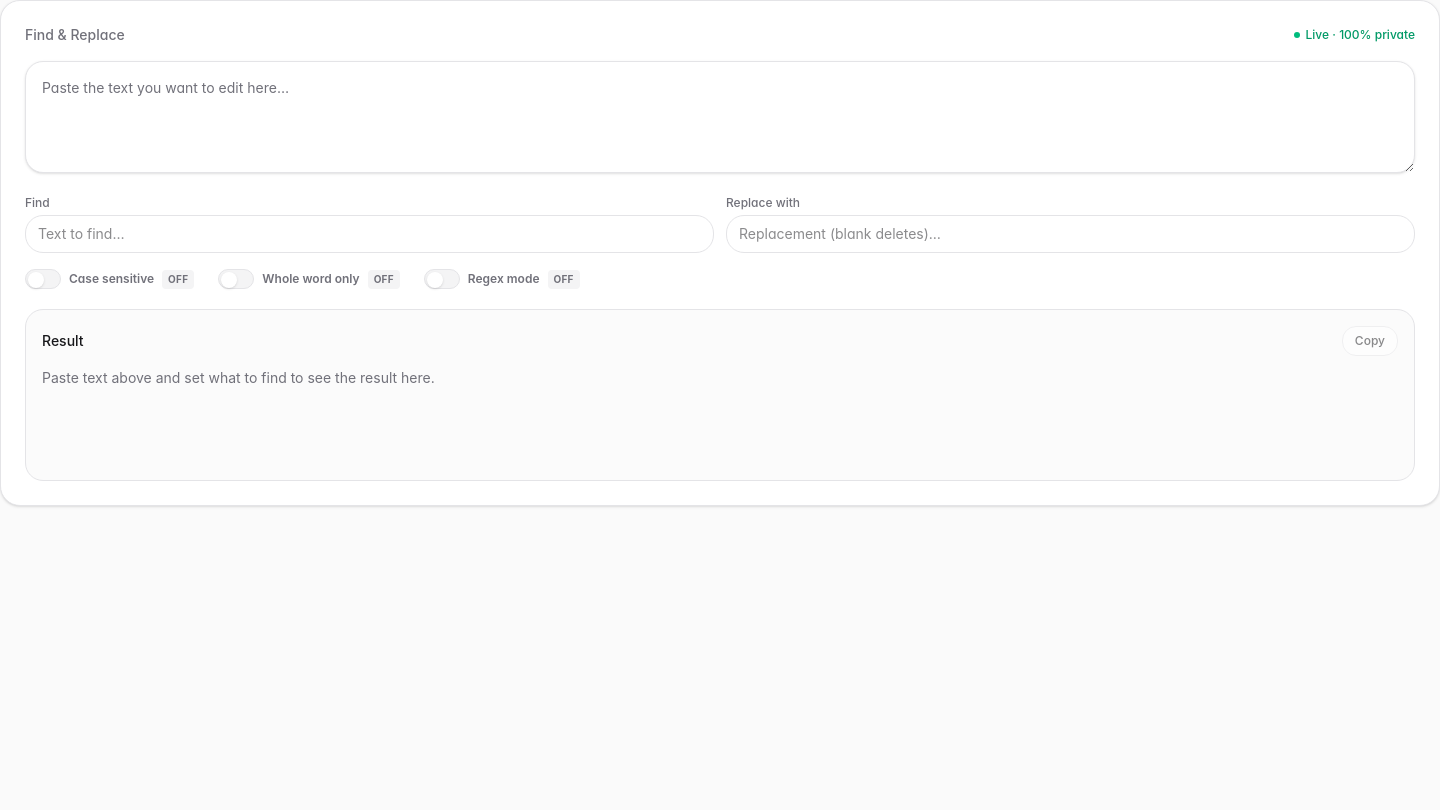
Test: Find & Replace UI toggles › case-sensitive toggle changes output and only matches exact case
Type "Fox fox FOX" into the text box named "Text to edit".
click(720, 117); type("Fox fox FOX")  # box [25, 61, 1415, 173]
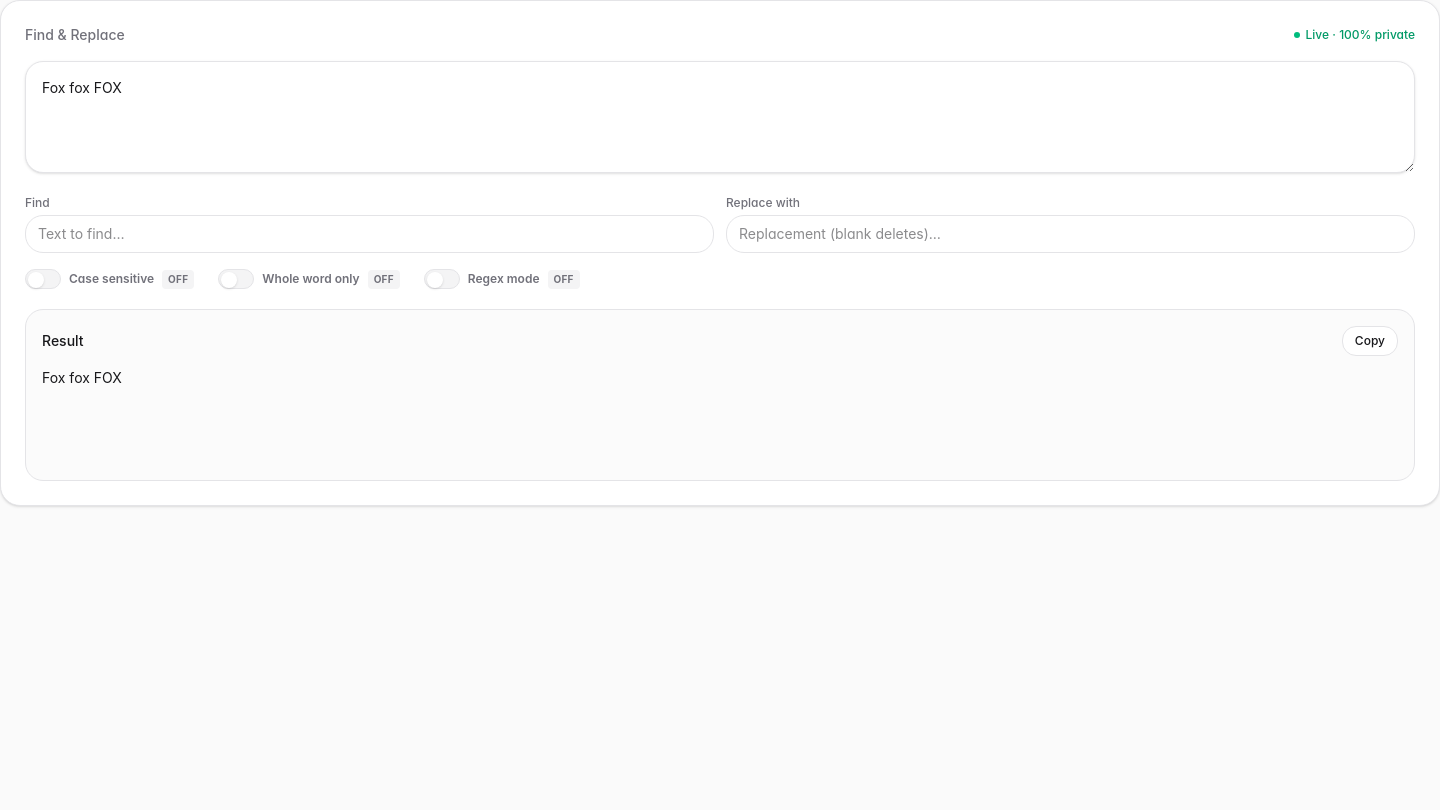
Type "fox" into the field with placeholder "Text to find…".
click(370, 234); type("fox")  # box [25, 215, 714, 253]
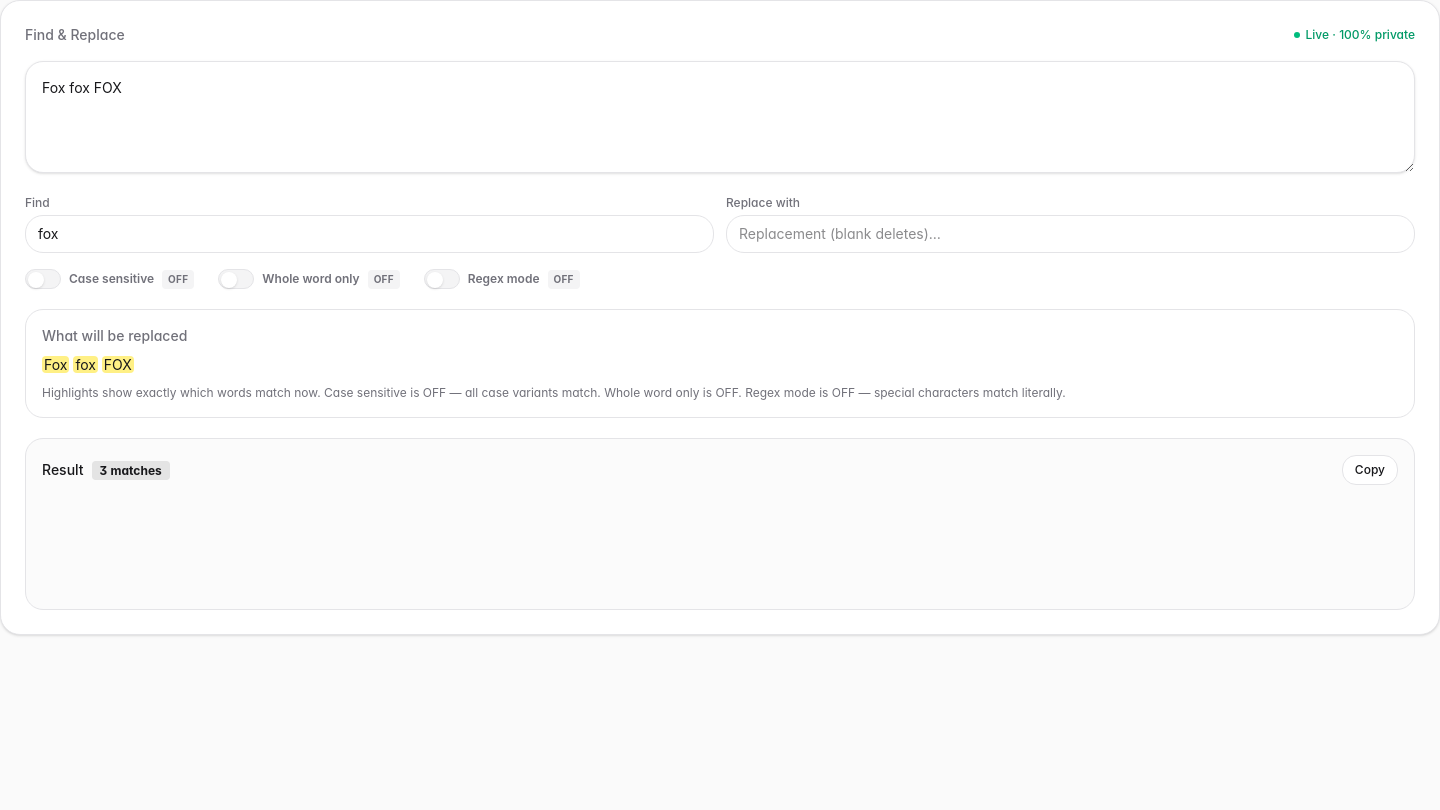
Type "cat" into the field with placeholder "Replacement (blank deletes)…".
click(1070, 234); type("cat")  # box [726, 215, 1415, 253]
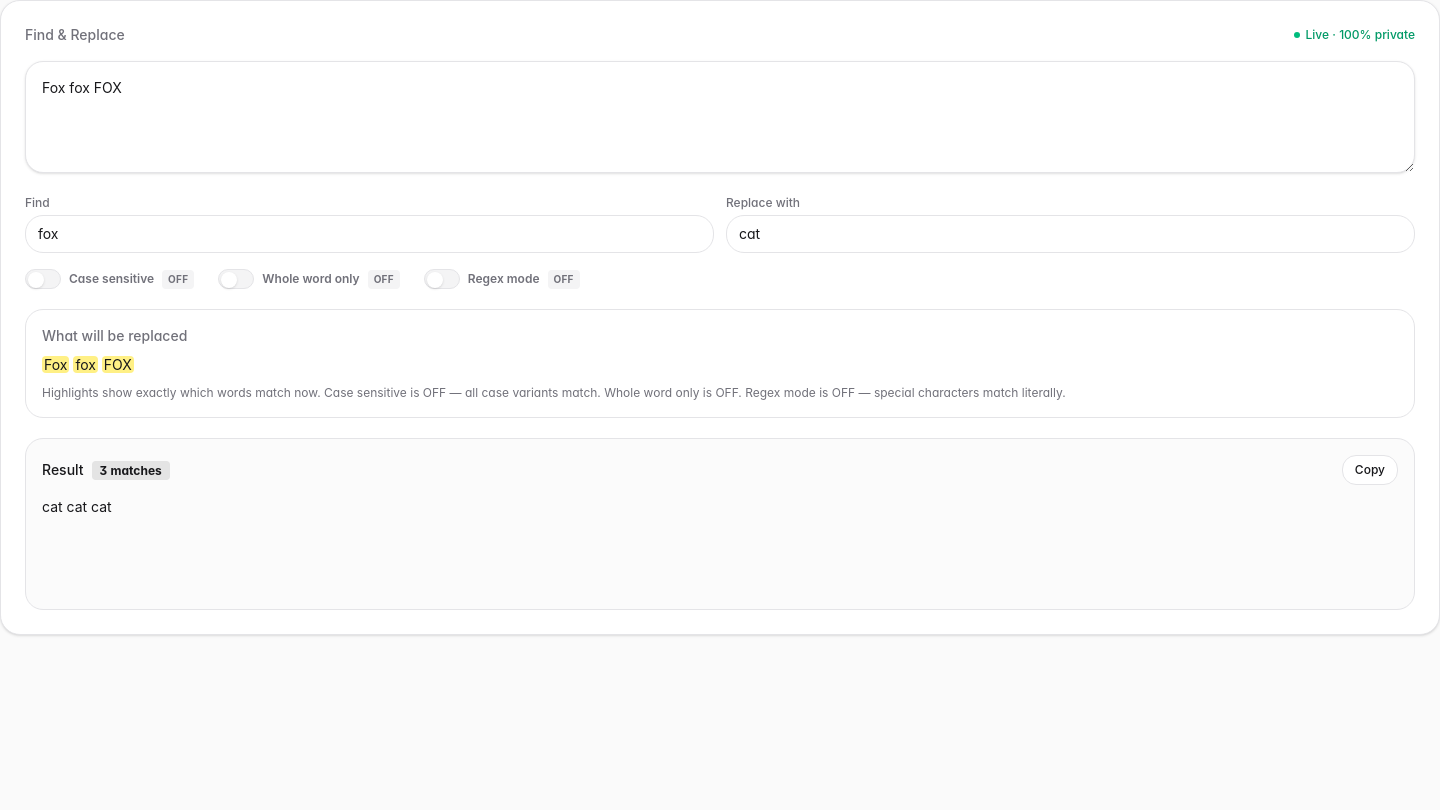
Click the switch labelled "Case sensitive Off".
click(110, 279)  # box [25, 269, 194, 289]
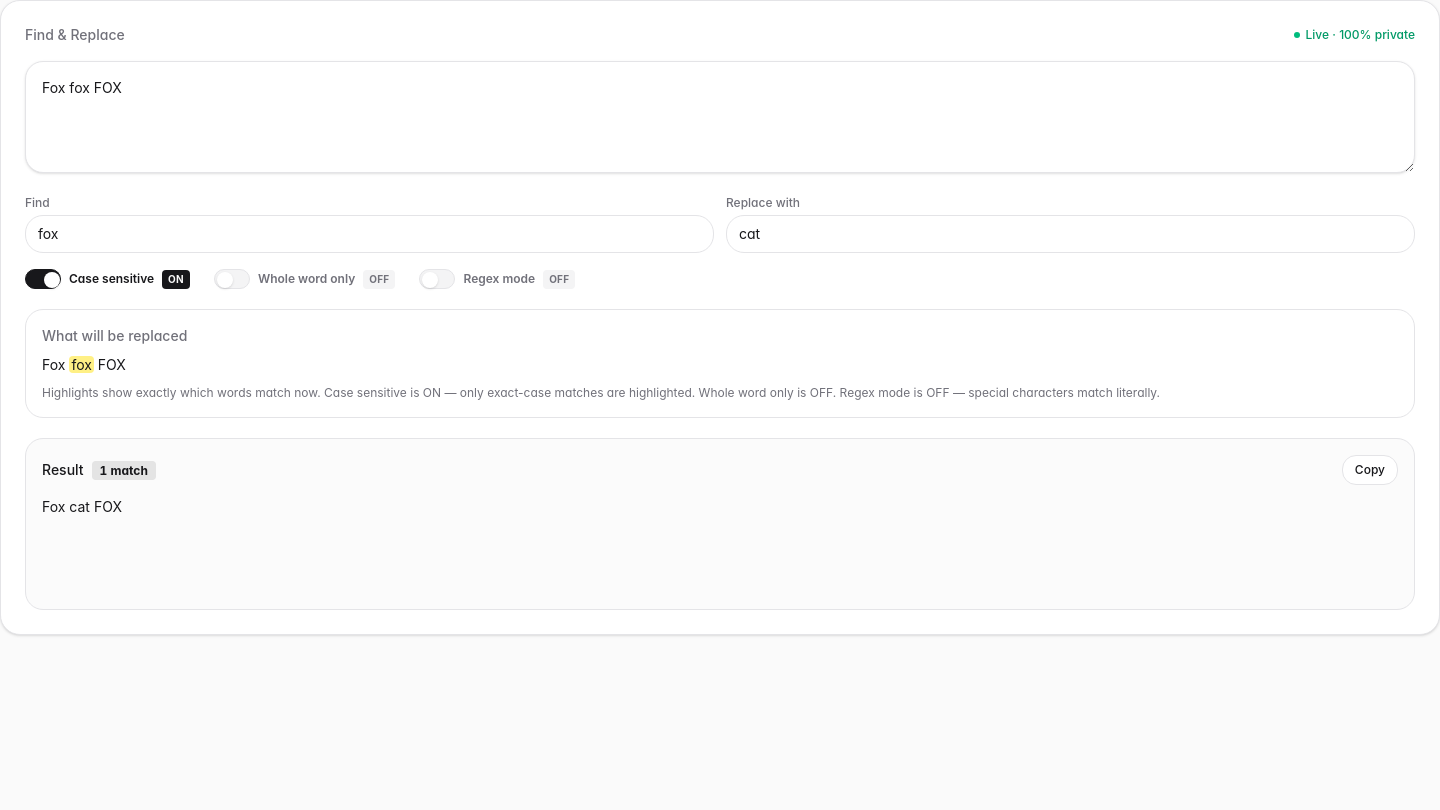
Expected: the text "Fox cat FOX" is shown, [42, 498, 122, 515]
Expected: the text "cat cat cat" is gone
